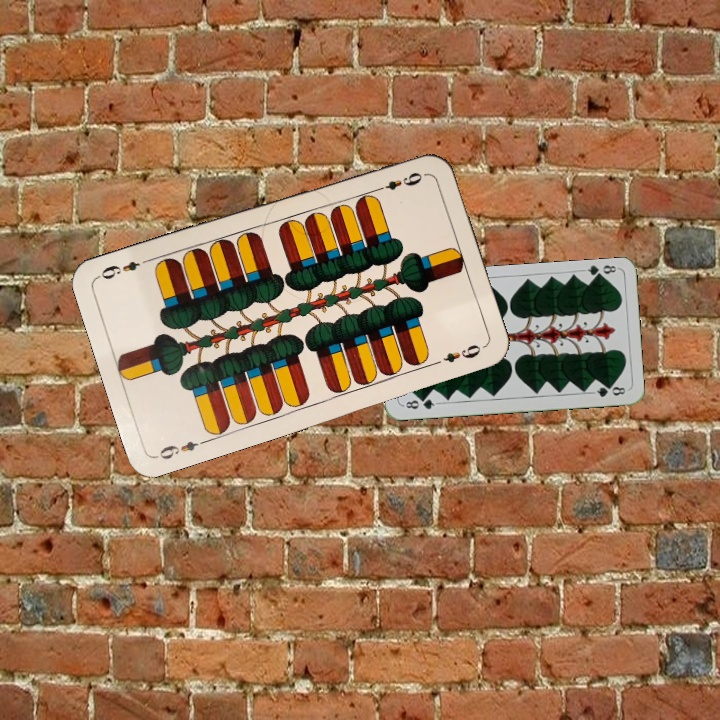E9: (152, 435, 210, 462), (371, 168, 429, 194)
G8: (580, 261, 620, 282), (400, 394, 440, 412)
